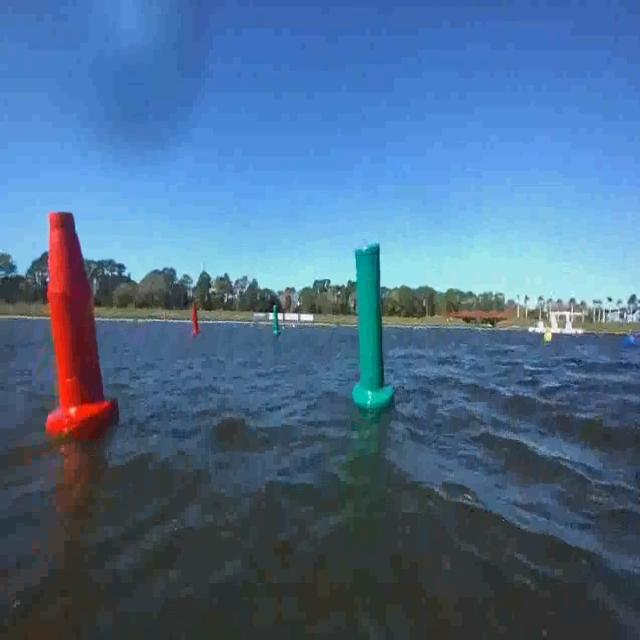blue-buoy: (622, 333, 640, 353)
green-column-buoy: (352, 240, 393, 410), (272, 307, 282, 338)
red-column-buoy: (44, 213, 117, 439), (192, 302, 202, 334)
yellow-buoy: (543, 332, 552, 348)
